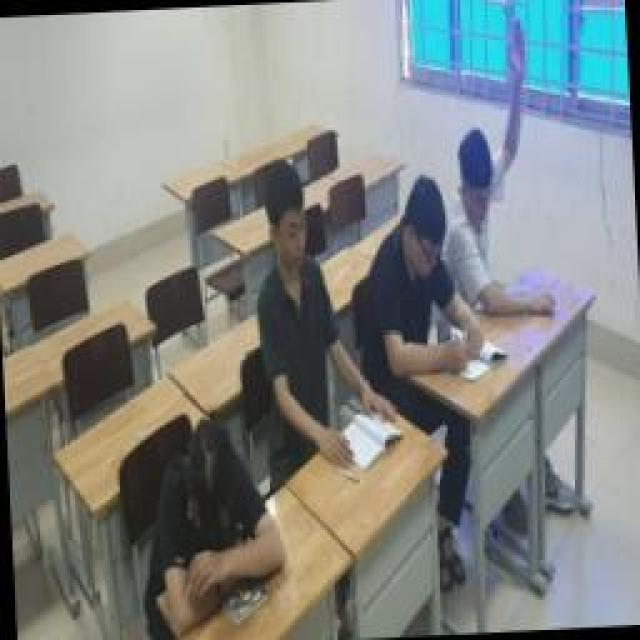sleep: (145, 425, 290, 633)
study: (248, 160, 398, 475), (438, 20, 560, 325), (355, 173, 483, 385)
